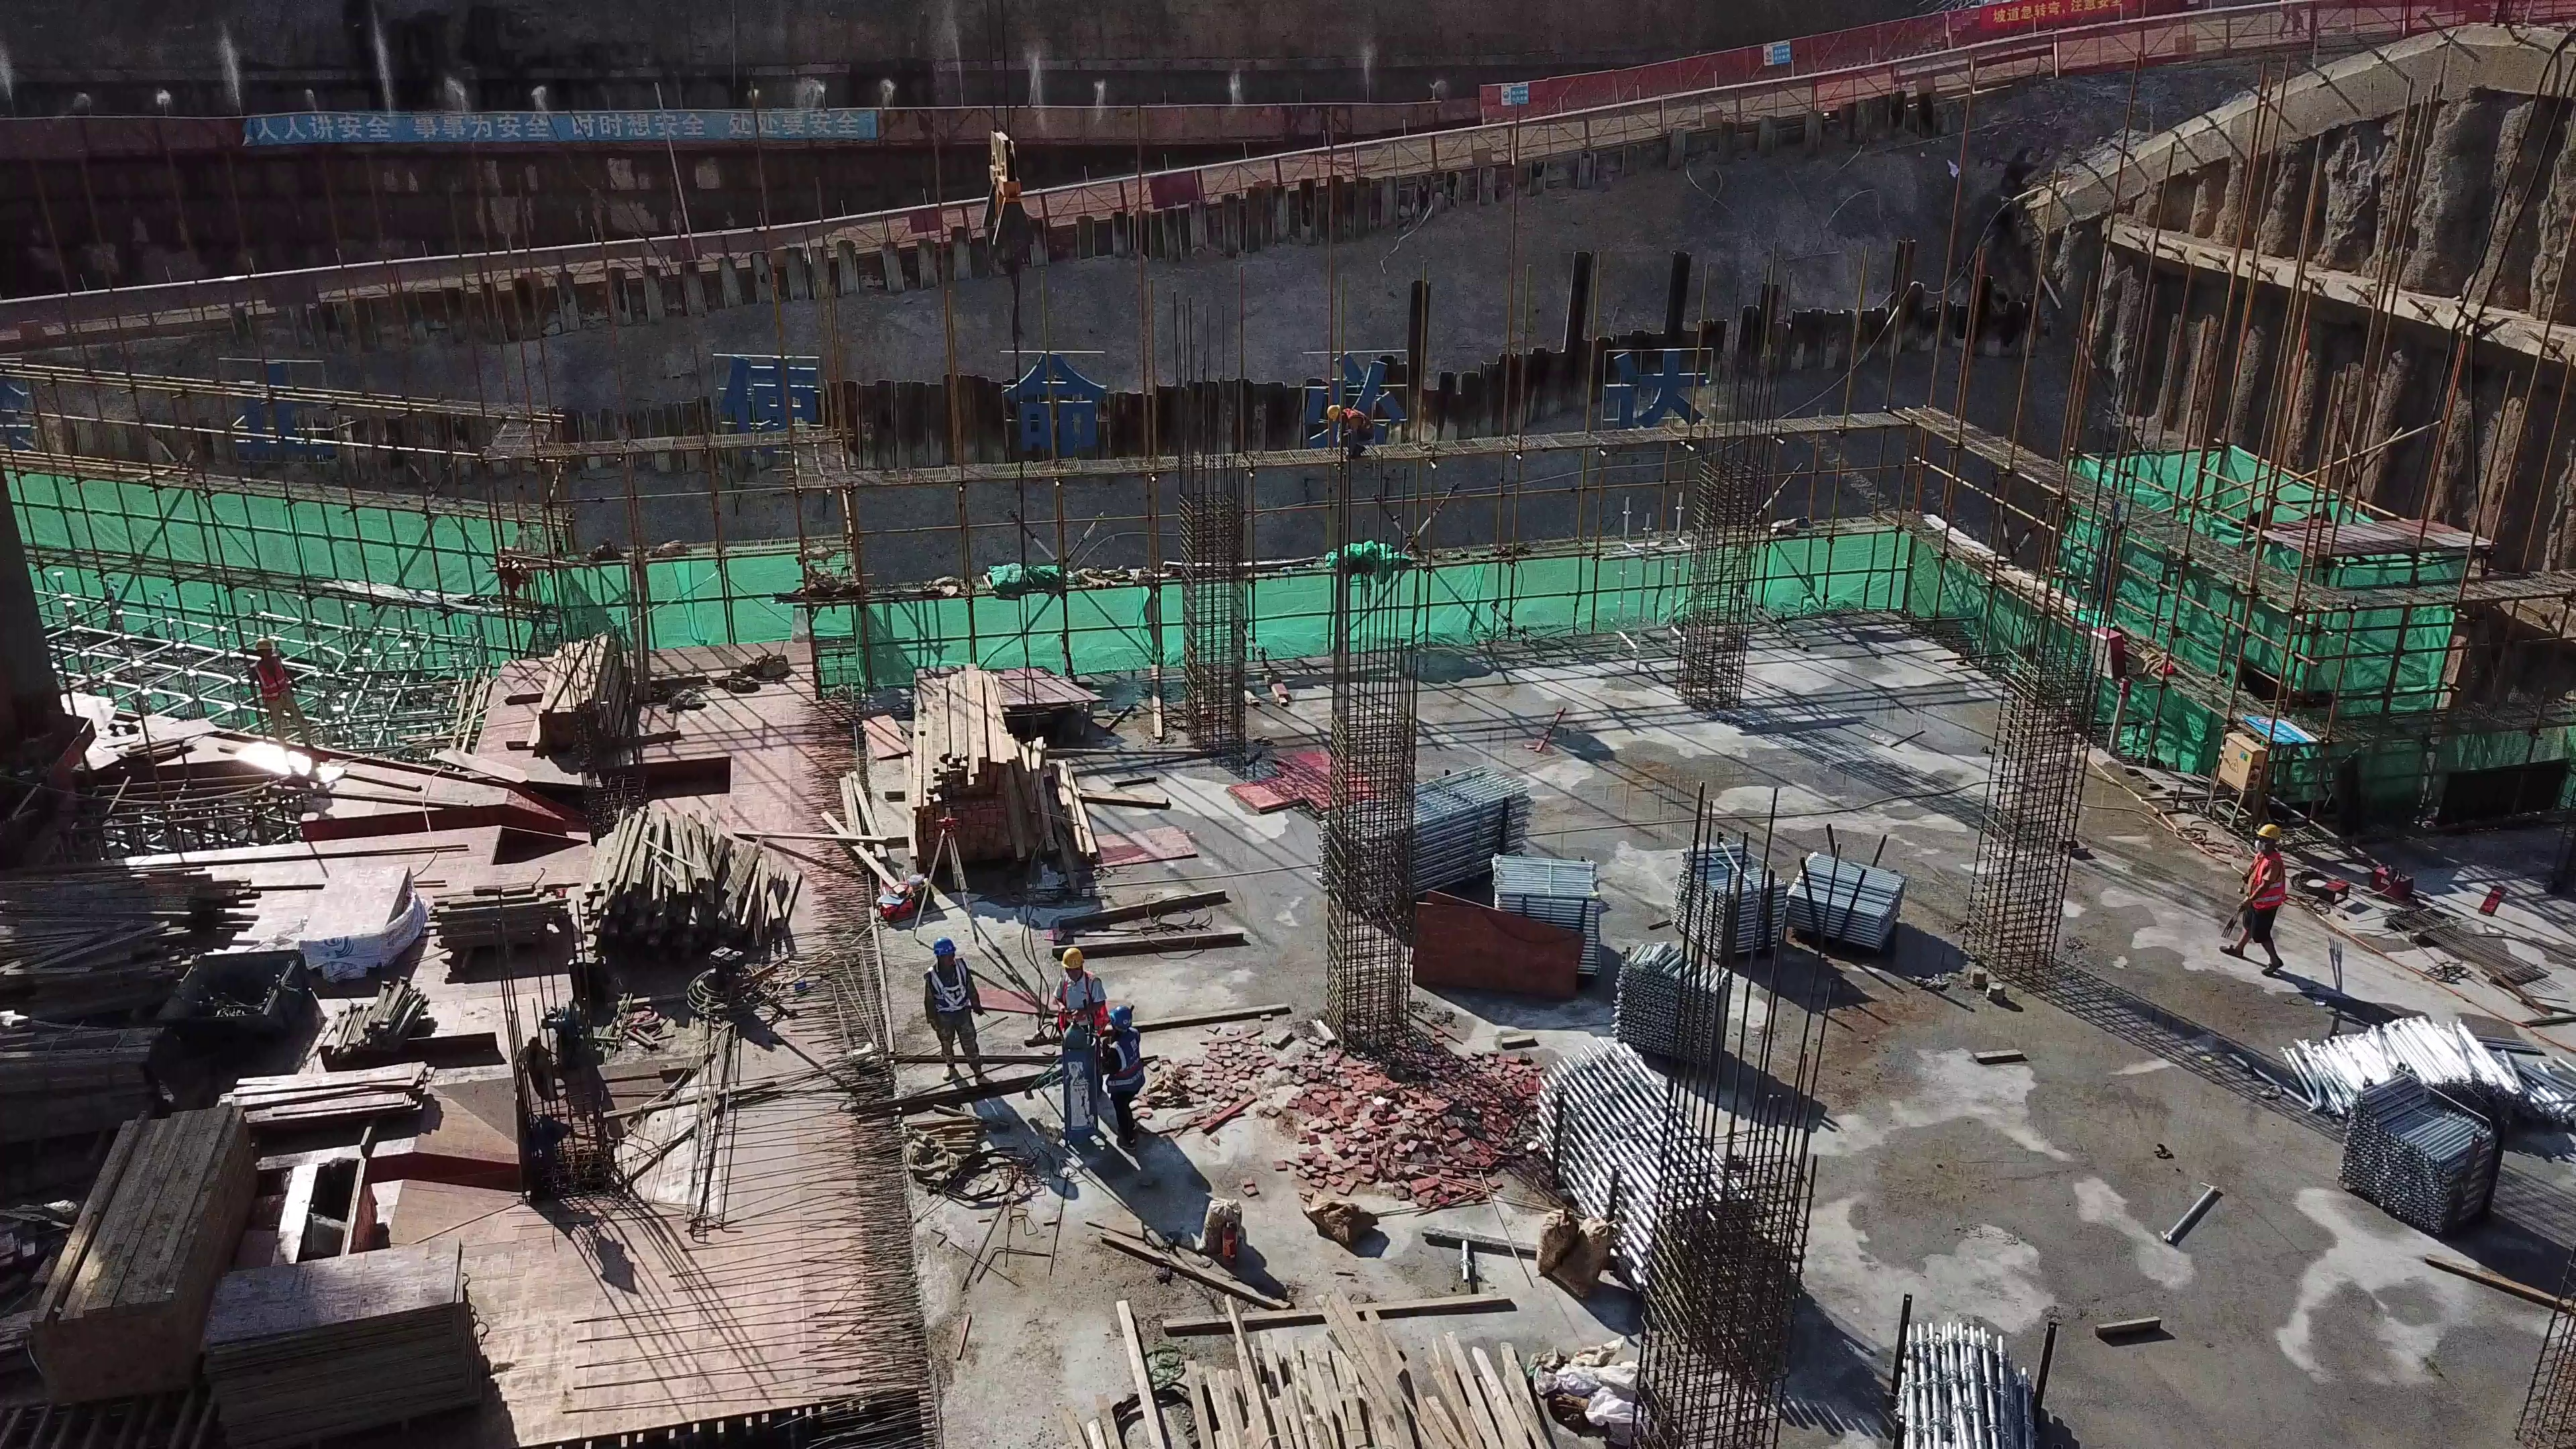board: (209, 1231, 511, 1449)
helmet: (1112, 1006, 1140, 1032), (930, 938, 959, 957), (1063, 950, 1087, 971), (2254, 824, 2280, 842), (1327, 402, 1341, 423)
person: (914, 937, 996, 1089), (2233, 824, 2298, 979), (1100, 1007, 1158, 1154), (1050, 928, 1108, 1022), (1316, 390, 1381, 453)
scaffold: (1534, 1039, 1709, 1289), (1886, 1284, 2044, 1449), (1393, 755, 1535, 898)
vest: (918, 962, 981, 1015), (1103, 1036, 1150, 1095), (2243, 851, 2288, 906), (1344, 398, 1375, 427)
wood: (1016, 1280, 1568, 1449), (9, 1076, 260, 1415), (899, 676, 1108, 886), (580, 817, 798, 942), (540, 647, 643, 752)
